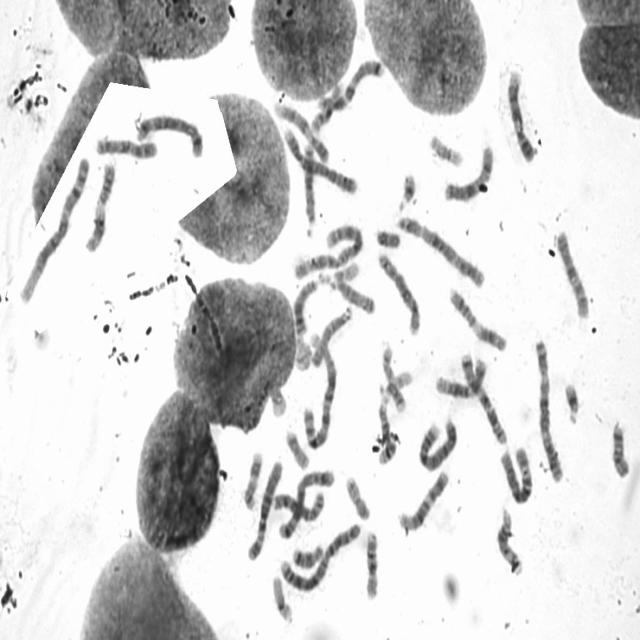A1: (16, 150, 92, 307), (299, 328, 339, 452)
A2: (277, 516, 363, 594), (290, 218, 366, 282)
A3: (394, 210, 487, 290), (533, 332, 566, 484)
B4: (281, 123, 358, 196), (416, 415, 460, 473)
B5: (276, 463, 337, 542), (133, 108, 205, 159)
C10: (553, 225, 591, 320), (94, 132, 160, 160)
C11: (446, 282, 509, 353), (81, 156, 117, 254)
C12: (395, 465, 451, 533), (434, 353, 489, 400)
C6: (244, 454, 285, 563), (498, 442, 536, 506)
C7: (458, 347, 509, 446), (314, 54, 385, 114)
C8: (375, 246, 423, 336), (270, 486, 327, 524)
C9: (272, 98, 331, 165), (504, 64, 538, 164)
D13: (291, 272, 322, 337), (300, 137, 318, 236)
D14: (494, 503, 526, 578), (374, 396, 398, 466)
D15: (308, 301, 354, 369), (328, 271, 378, 316)
E16: (308, 76, 346, 134), (362, 525, 381, 602)
E17: (379, 339, 408, 414), (240, 446, 264, 512)
E18: (608, 416, 632, 480), (290, 539, 325, 570)
F19: (426, 129, 466, 169), (270, 571, 294, 624)
F20: (343, 471, 372, 521), (283, 425, 311, 471)
G21: (395, 167, 418, 213), (561, 376, 582, 426)
G22: (379, 365, 414, 404), (330, 258, 360, 285)
X: (442, 140, 496, 203)
Y: (373, 224, 402, 250)
